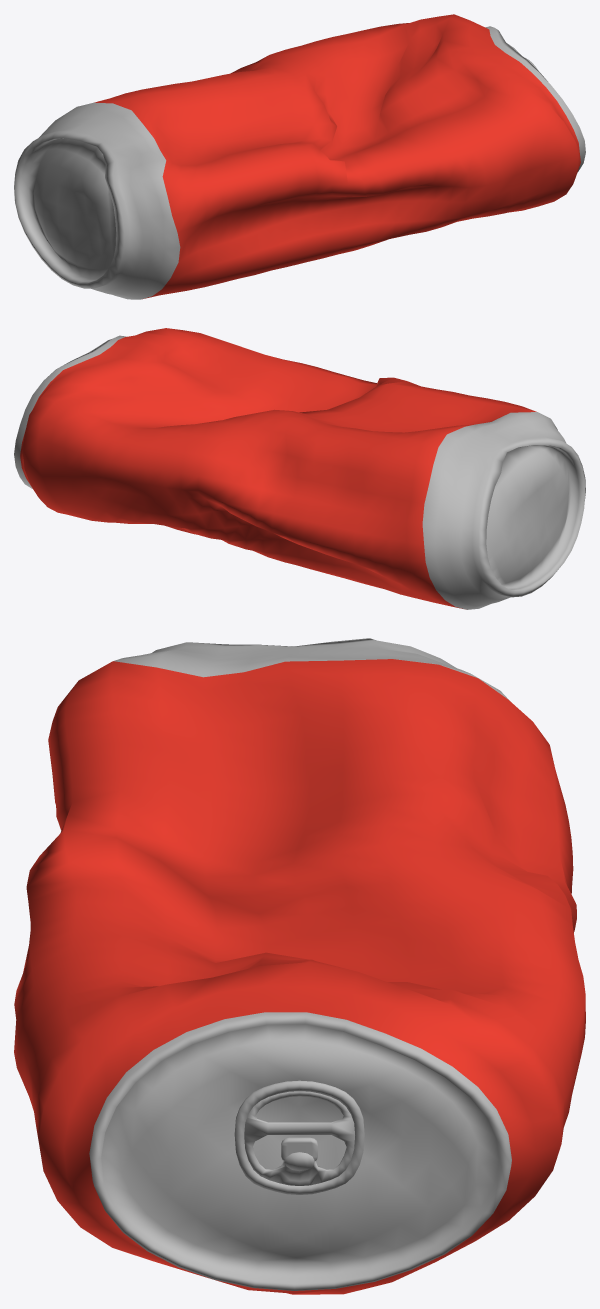
The model's file is CanDamageLarge.fbx.
The picture shows the model from 3 angles, top to bottom: view 1: azimuth 30°, elevation 25°; view 2: azimuth 150°, elevation 25°; view 3: azimuth 270°, elevation 25°; orthographic projection. The views are drawn at different scales.
Parts seen in each view (by area): view 1: CanDamageLarge; view 2: CanDamageLarge; view 3: CanDamageLarge.
Part boxes in pixels (x1,y1,x2,y2): CanDamageLarge: (14,14,585,299); CanDamageLarge: (14,328,585,609); CanDamageLarge: (14,638,585,1294).
Size of the model in its own units: 6.12 by 11.05 by 3.59.
